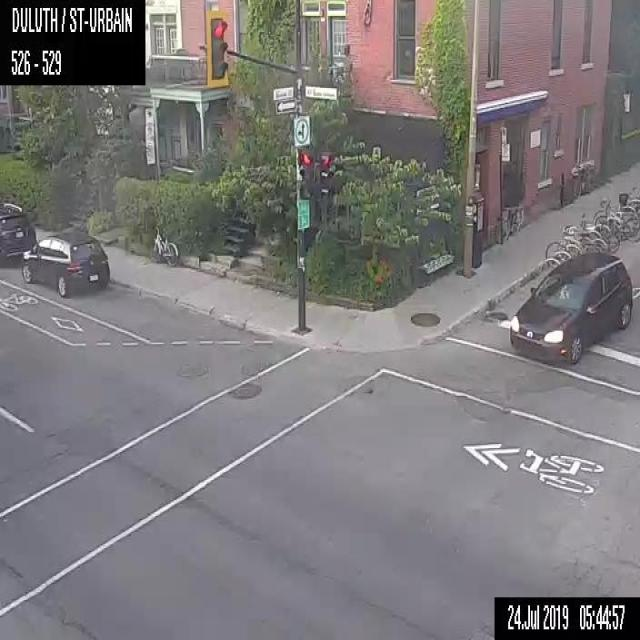vehicle: (507, 253, 634, 365), (22, 228, 110, 296), (0, 202, 35, 265)
